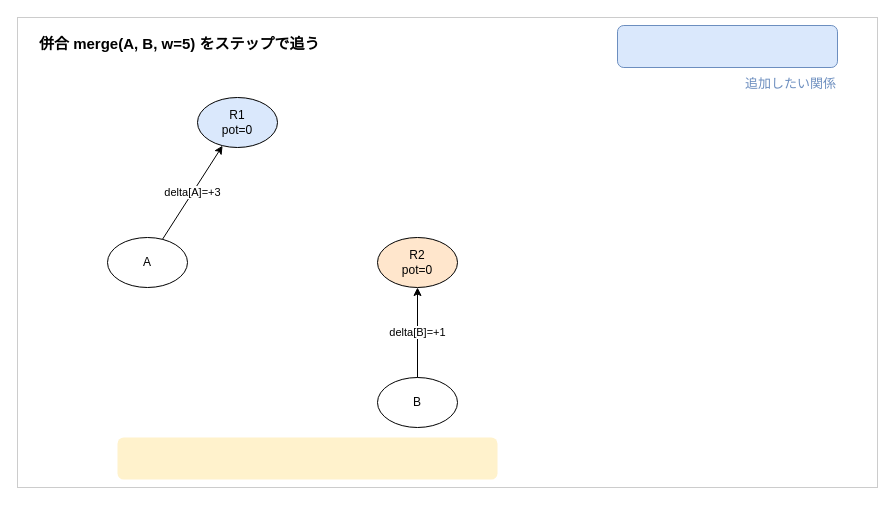
Some shapes in this 895 by 505 pixel diagram are drawn without their labels. The shapes that lost their labels are listed below. From the top down, each one's centre as x and y in pixels, then its label:
pixel 727 46: STEP 1 / 5
pixel 307 458: pot(B) − pot(A) = 5 にしたい
